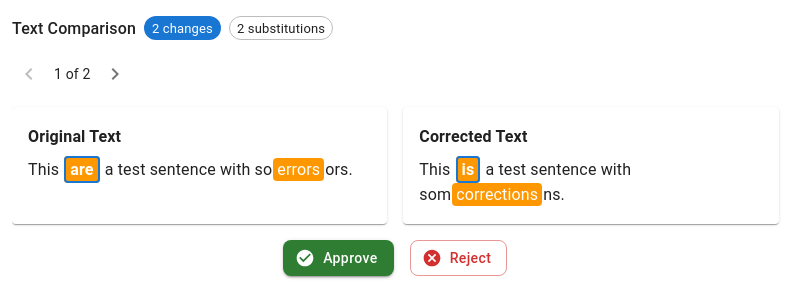
BeforeAfterComparison Component › Change Navigation › should navigate between changes
Click the button named "next change". click: click(116, 74)
box: [98,57,132,91]
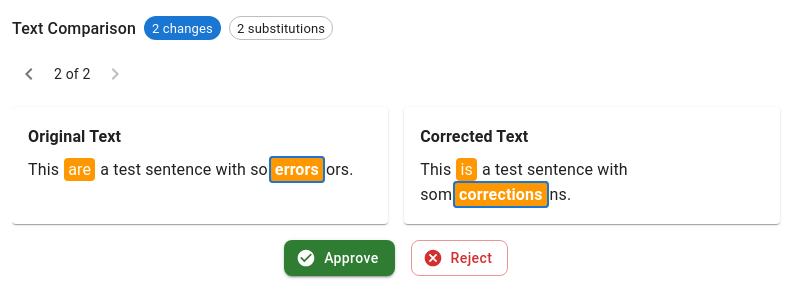
Now the text "2 of 2" is shown, box [54,64,90,84]
